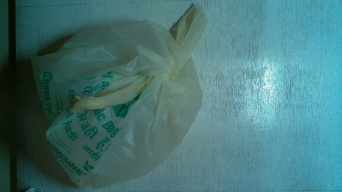f: (38, 17, 209, 189)
